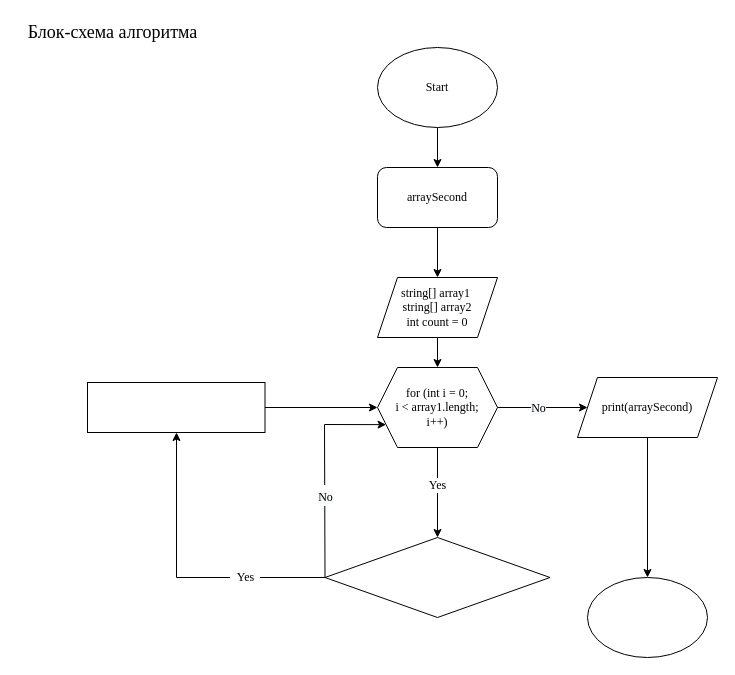
This 735x675 diagram has some shape labels left out. Here are the shapes that lost their labels. From the top down, the centre of each, then its label:
At (x=175, y=407): "array2[count] = array1[i] count++;".
At (x=437, y=577): "if (array1[i].length <= 3)".
At (x=647, y=617): "Finish".
